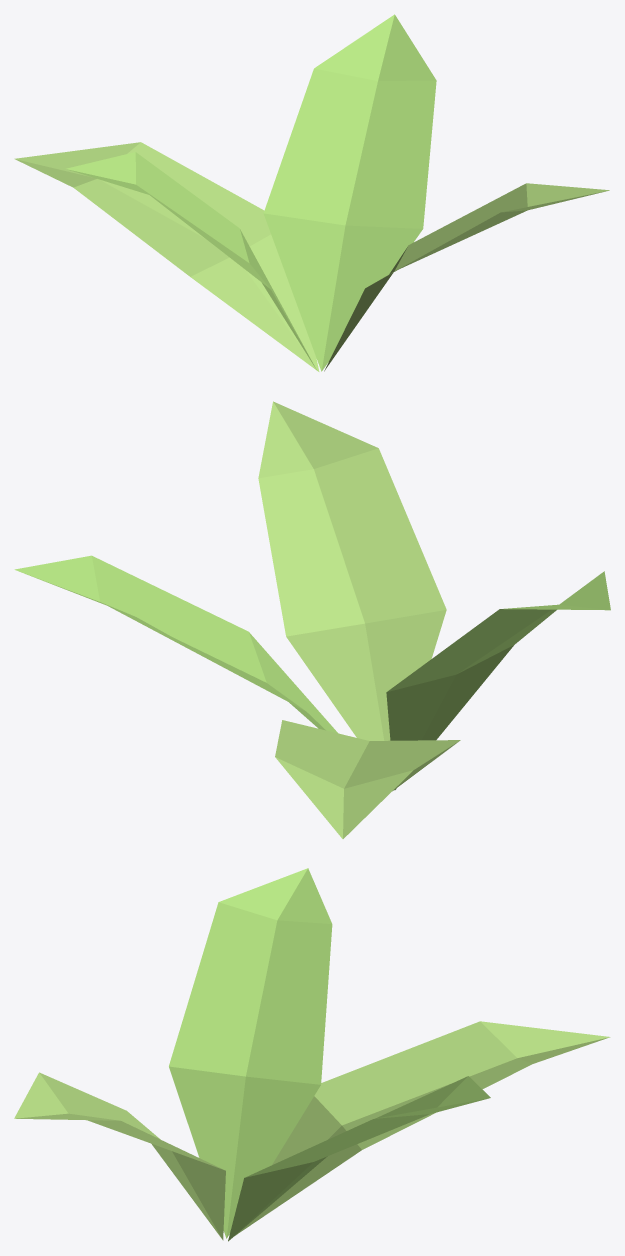
The model's file is Plant_k_OneS_04.fbx.
3 views of the same model, one above another, from view 1: azimuth 30°, elevation 25°; view 2: azimuth 150°, elevation 25°; view 3: azimuth 270°, elevation 25° (orthographic). The views are drawn at different scales.
Visible parts, largest first — view 1: Plant_k_OneS_04; view 2: Plant_k_OneS_04; view 3: Plant_k_OneS_04.
Part boxes in pixels (bbox=[...]): Plant_k_OneS_04: bbox=[14, 14, 609, 371]; Plant_k_OneS_04: bbox=[14, 401, 610, 838]; Plant_k_OneS_04: bbox=[14, 868, 610, 1241].
Size of the model in its own units: 0.3429 by 0.1827 by 0.3877.
